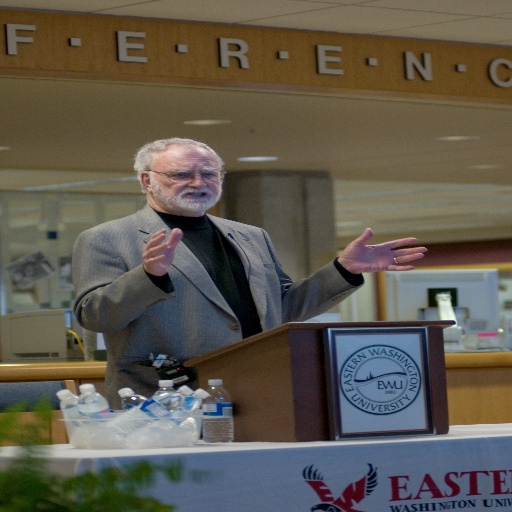hand: (334, 230, 428, 278), (139, 225, 182, 277)
